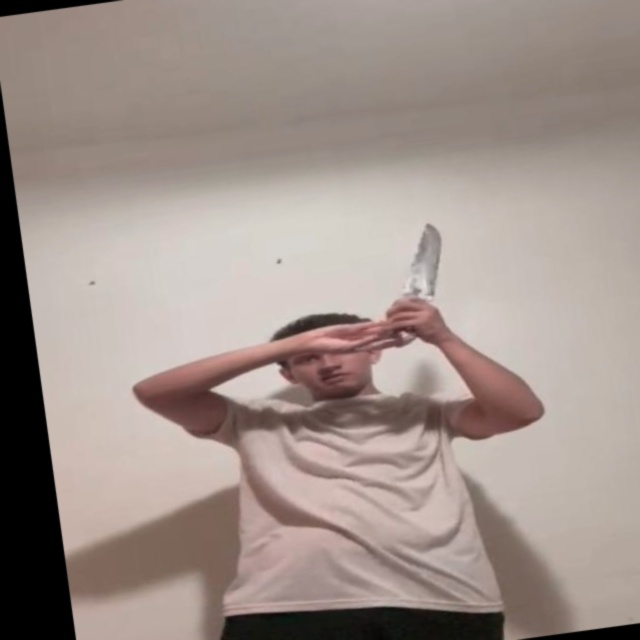Sharp-Object: (392, 219, 455, 302)
